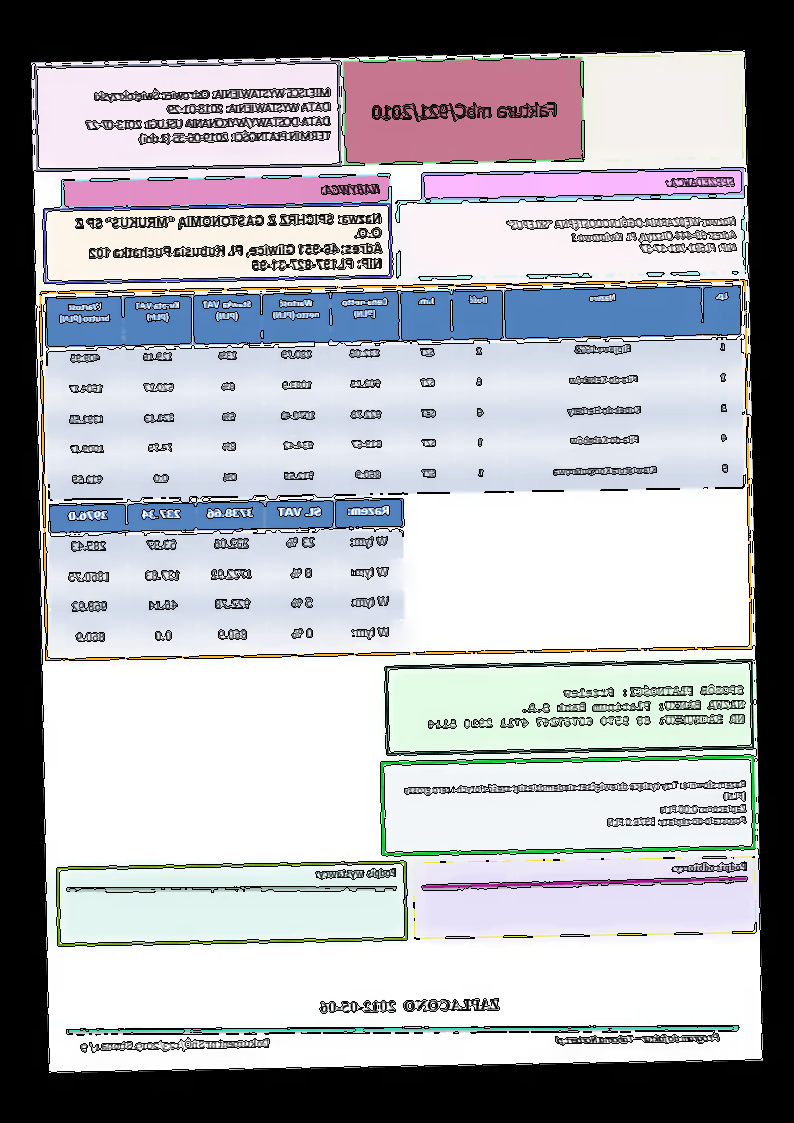Table: (43, 283, 747, 503), (46, 498, 407, 656)
TextBox: (71, 207, 387, 280), (401, 776, 750, 835), (425, 679, 747, 735), (82, 83, 336, 150), (502, 209, 740, 260), (369, 92, 567, 128), (78, 1034, 274, 1058), (315, 995, 503, 1019), (550, 1026, 723, 1048), (311, 864, 401, 884), (670, 856, 751, 878), (319, 177, 384, 201), (666, 172, 741, 191)
